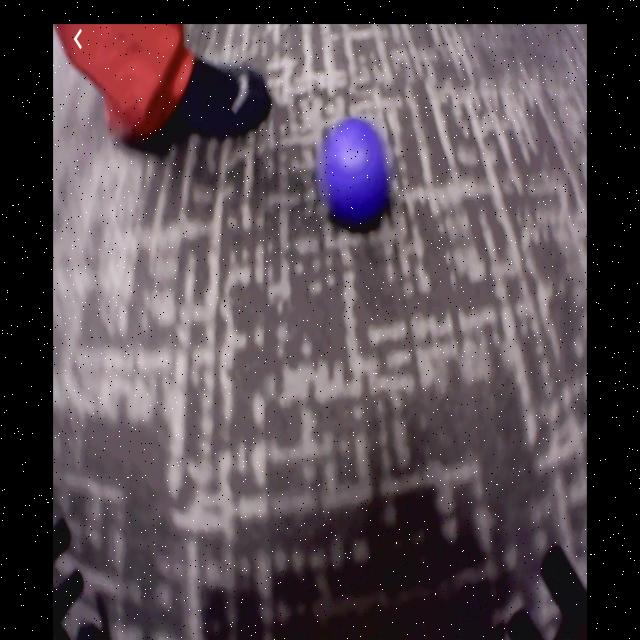ball: (326, 123, 388, 222)
